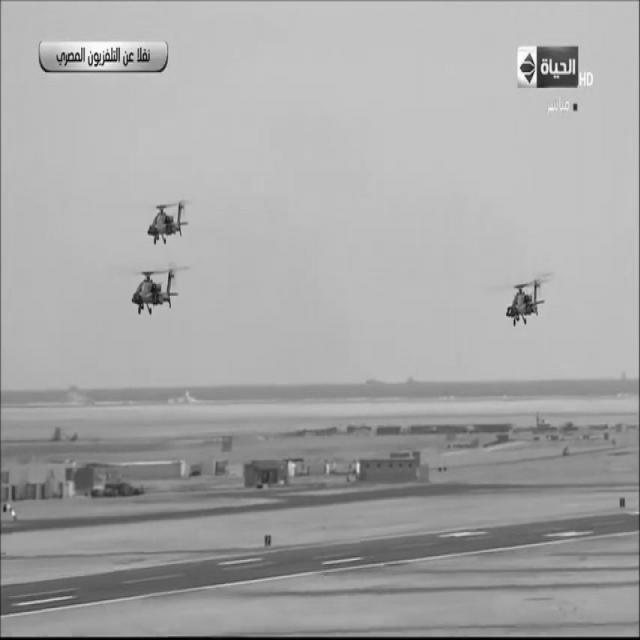helikopter: (486, 255, 556, 333), (122, 255, 192, 322), (136, 187, 202, 252)
